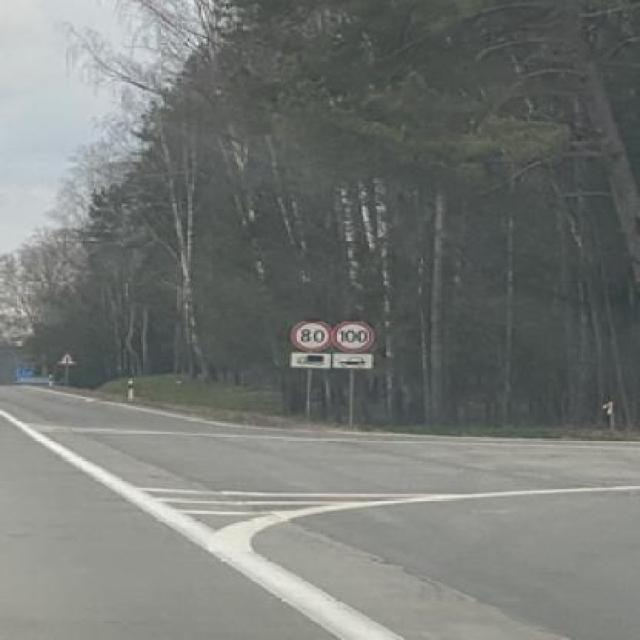forb_speed_over_100: (333, 319, 372, 353)
forb_speed_over_80: (294, 319, 331, 353)
